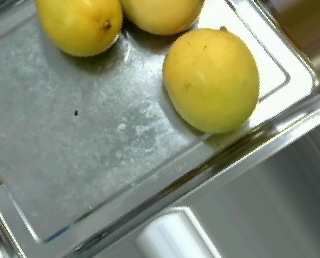Mango: (161, 26, 259, 133), (33, 0, 123, 59), (119, 1, 205, 33)
